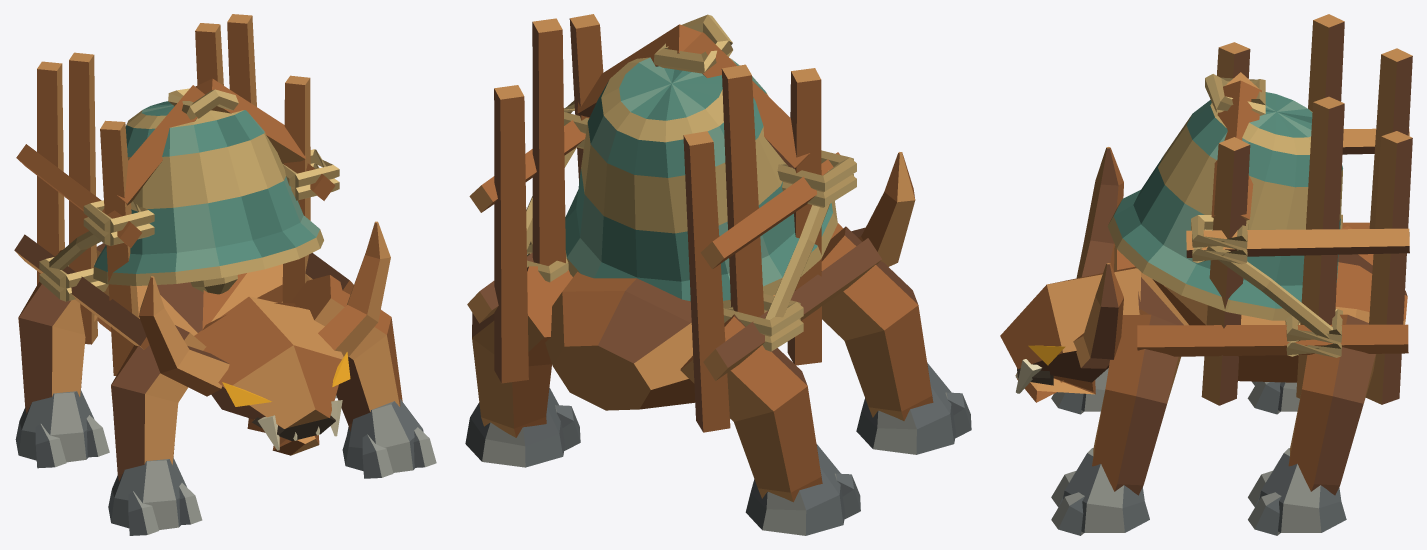
Rendered from bellback-study-v1.glb.
3 views of the same model, side by side, from view 1: azimuth 30°, elevation 25°; view 2: azimuth 150°, elevation 25°; view 3: azimuth 270°, elevation 25° (orthographic). The views are drawn at different scales.
Visible parts, largest first — view 1: Hollow cast bell, Pointed timber head, Left fore timber leg, Left hind timber leg, Right fore timber leg, Upright -1 1, Barrel timber hull, Upright -1 2, Swept timber horn, Upright -1 0, Swept timber horn.001, Left fore stone foot (+27 smaller); view 2: Hollow cast bell, Barrel timber hull, Left fore timber leg, Left hind timber leg, Upright 1 2, Upright -1 2, Upright 1 1, Right hind timber leg, Upright -1 1, Upright -1 0, Lower rail -1, Left fore stone foot (+18 smaller); view 3: Hollow cast bell, Right fore timber leg, Right hind timber leg, Pointed timber head, Upright 1 2, Lower rail 1, Upright 1 1, Barrel timber hull, Upright 1 0, Upper rail 1, Right fore stone foot, Right hind stone foot (+20 smaller).
Boxes of the visible parts, box(x1,y1,x2,y2) form: Hollow cast bell: box(93, 101, 323, 285); Pointed timber head: box(194, 296, 343, 428); Left fore timber leg: box(111, 325, 206, 481); Left hind timber leg: box(18, 250, 97, 413); Right fore timber leg: box(291, 275, 402, 431); Upright -1 1: box(69, 52, 97, 344); Barrel timber hull: box(96, 243, 296, 335); Upright -1 2: box(37, 61, 64, 284); Swept timber horn: box(139, 276, 229, 396); Upright -1 0: box(100, 120, 138, 375); Swept timber horn.001: box(318, 221, 390, 357); Left fore stone foot: box(108, 458, 186, 529); Hollow cast bell: box(565, 57, 837, 308); Barrel timber hull: box(545, 272, 774, 410); Left fore timber leg: box(821, 226, 933, 420); Left hind timber leg: box(680, 314, 822, 502); Upright 1 2: box(494, 85, 528, 383); Upright -1 2: box(683, 131, 730, 432); Upright 1 1: box(532, 18, 565, 265); Right hind timber leg: box(472, 266, 572, 437); Upright -1 1: box(721, 64, 764, 317); Upright -1 0: box(787, 68, 821, 365); Lower rail -1: box(703, 238, 881, 380); Left fore stone foot: box(856, 363, 956, 454); Hollow cast bell: box(1107, 92, 1342, 320); Right fore timber leg: box(1092, 314, 1180, 495); Right hind timber leg: box(1288, 314, 1376, 495); Pointed timber head: box(1000, 266, 1140, 382); Upright 1 2: box(1365, 131, 1412, 404); Lower rail 1: box(1137, 324, 1408, 356); Upright 1 1: box(1296, 96, 1344, 398); Barrel timber hull: box(1138, 254, 1407, 382); Upright 1 0: box(1201, 137, 1250, 405); Upper rail 1: box(1186, 228, 1409, 257); Right fore stone foot: box(1063, 448, 1149, 532); Right hind stone foot: box(1259, 448, 1346, 532).
Size of the model in its own units: 2.98 by 3.5 by 3.28.
